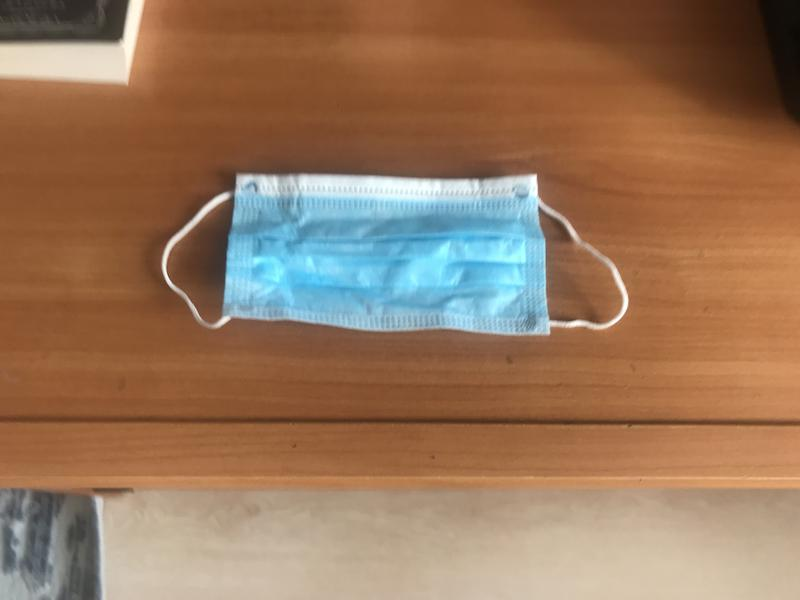medical_mask: (162, 170, 630, 334)
